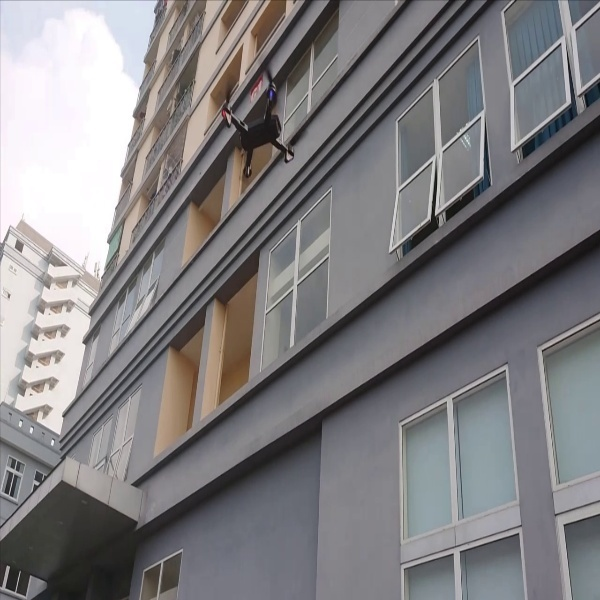drone: (209, 62, 302, 177)
